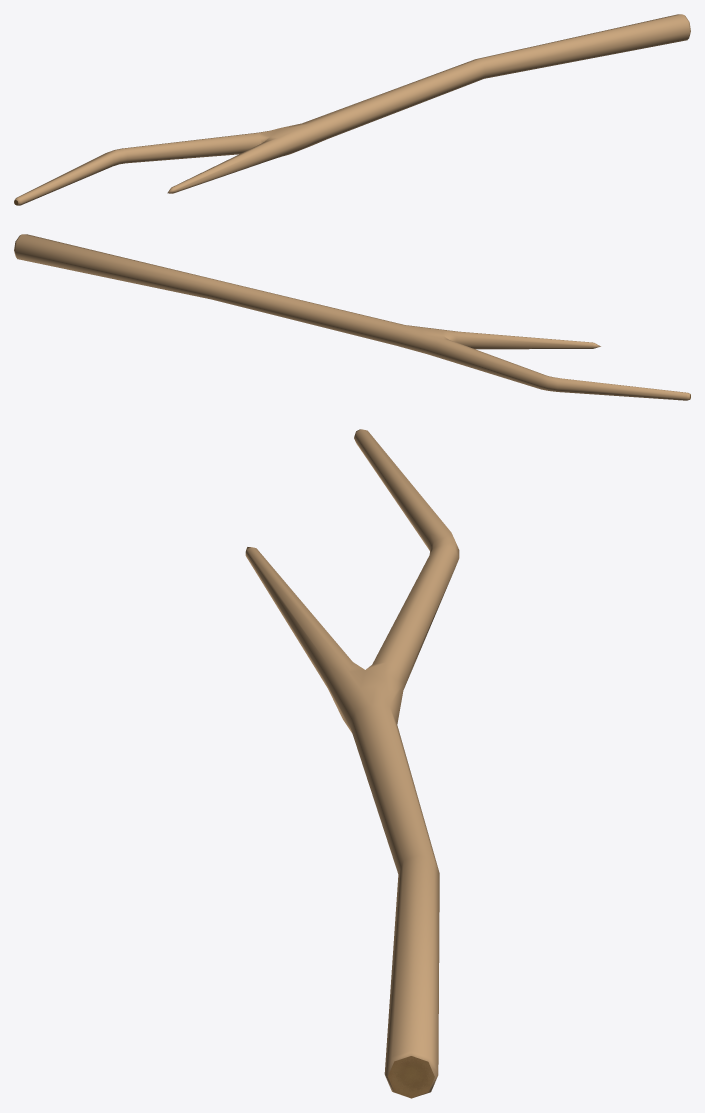
Rendered from Branch_1.fbx.
3 views of the same model, one above another, from view 1: azimuth 30°, elevation 25°; view 2: azimuth 150°, elevation 25°; view 3: azimuth 270°, elevation 25° (orthographic). The views are drawn at different scales.
Parts seen in each view (by area): view 1: Cube.080; view 2: Cube.080; view 3: Cube.080.
Boxes of the visible parts, box(x1,y1,x2,y2) form: Cube.080: box(14, 14, 690, 205); Cube.080: box(14, 234, 690, 400); Cube.080: box(245, 429, 459, 1098).
Size of the model in its own units: 199 by 8.81 by 27.95.
